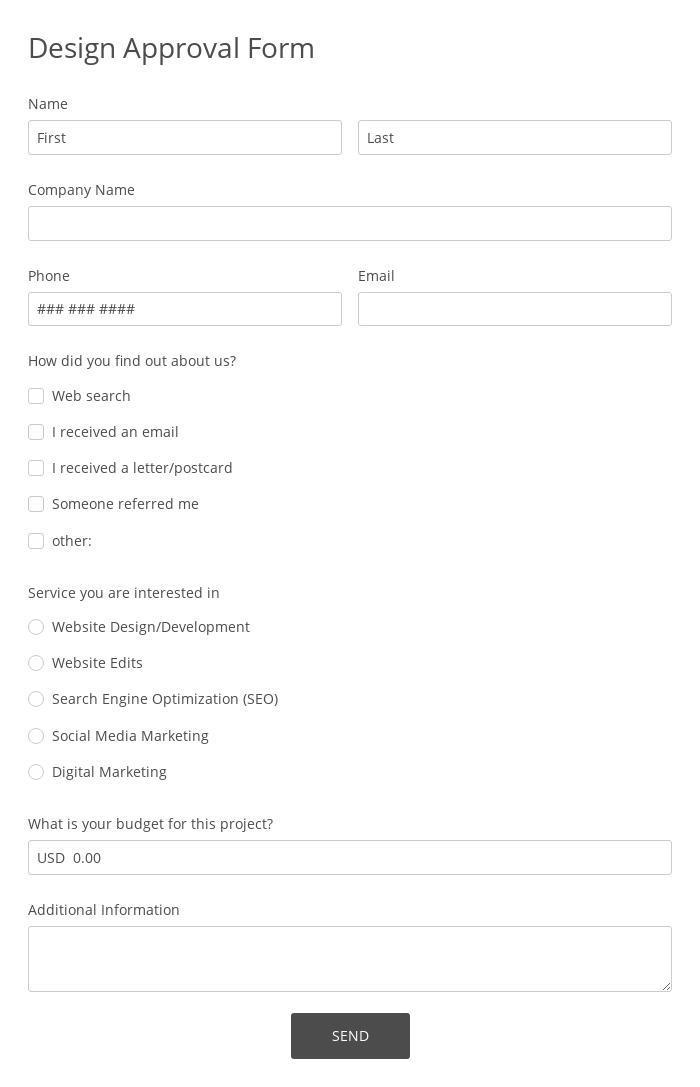button: (292, 1013, 411, 1062)
checkbox: (29, 387, 46, 406), (29, 497, 46, 514), (28, 461, 46, 477), (29, 533, 44, 551), (28, 426, 44, 442)
input: (31, 207, 672, 241), (28, 290, 340, 328), (360, 119, 673, 156), (27, 121, 344, 157), (361, 293, 670, 327)
label: (21, 32, 320, 69), (25, 814, 279, 838), (25, 351, 244, 373), (49, 618, 257, 640), (26, 586, 228, 608), (53, 690, 281, 709), (51, 458, 235, 479), (26, 904, 184, 926), (26, 175, 138, 203), (47, 423, 186, 445), (51, 496, 201, 515), (51, 730, 213, 746), (52, 763, 172, 782), (48, 654, 156, 675), (49, 387, 138, 406), (22, 264, 76, 288), (24, 96, 76, 114), (48, 533, 96, 550)
radio: (28, 763, 46, 782), (28, 655, 46, 672), (29, 728, 46, 746), (29, 691, 46, 708), (29, 620, 45, 636)
